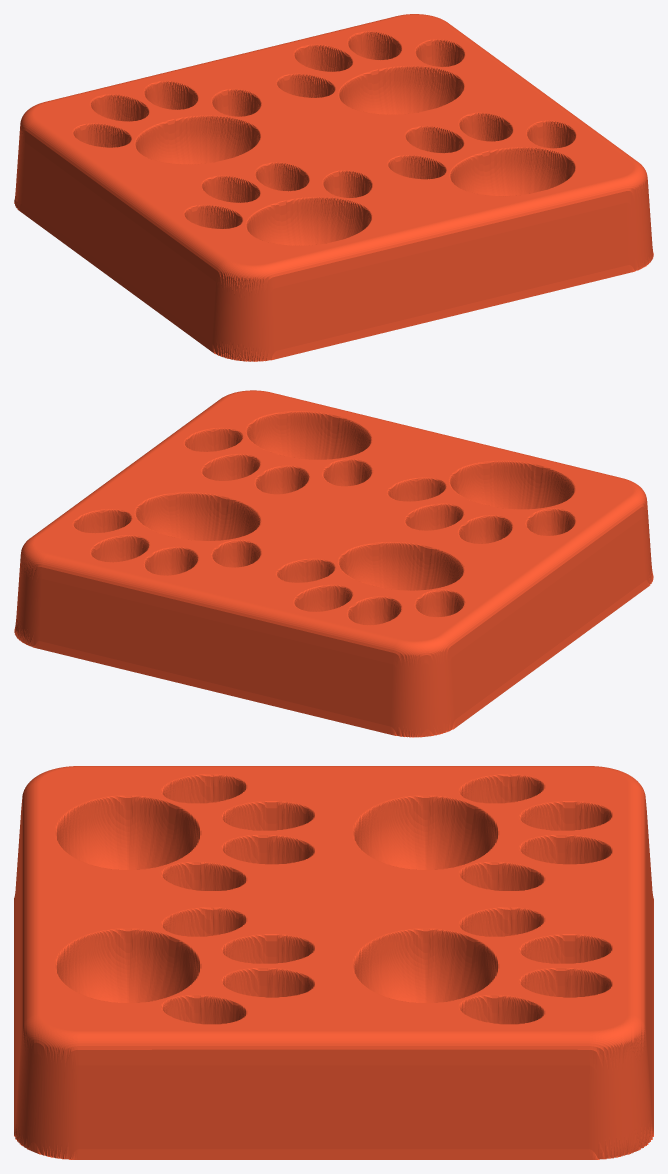
File: mold.glb
3 views of the same model, one above another, from view 1: azimuth 30°, elevation 25°; view 2: azimuth 150°, elevation 25°; view 3: azimuth 270°, elevation 25° (orthographic). The views are drawn at different scales.
Parts seen in each view (by area): view 1: geometry_0; view 2: geometry_0; view 3: geometry_0.
Part boxes in pixels (x1=…): geometry_0: x1=14, y1=14, x2=653, y2=361; geometry_0: x1=14, y1=390, x2=653, y2=737; geometry_0: x1=14, y1=766, x2=653, y2=1159.
Bounding box in the file's own units: 0.0942 × 0.0182 × 0.0894.
